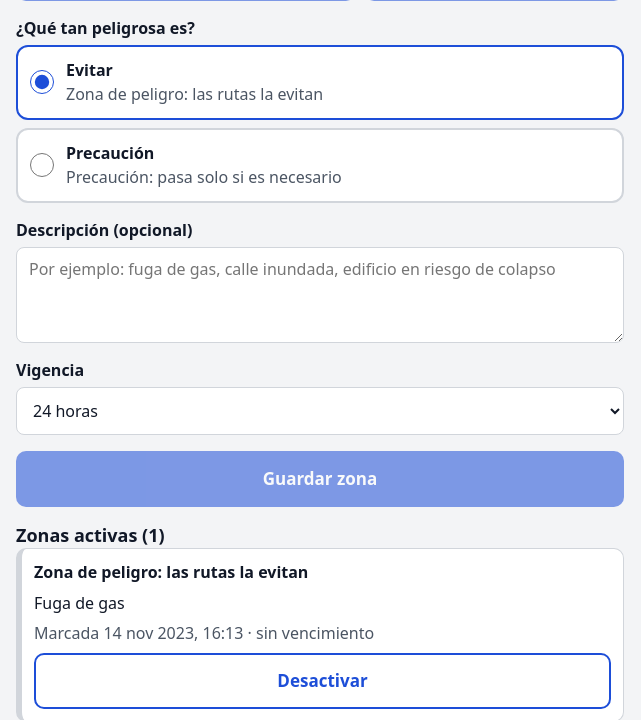
Test: ZonasPeligro › lista las zonas activas y las desactiva con confirmación
The image size is (641, 720).
(page scrolled)
Check: the text "Fuga de gas" is shown, box [34,592,125,614]
Click the button "Desactivar": click(322, 681) [34,653,611,709]
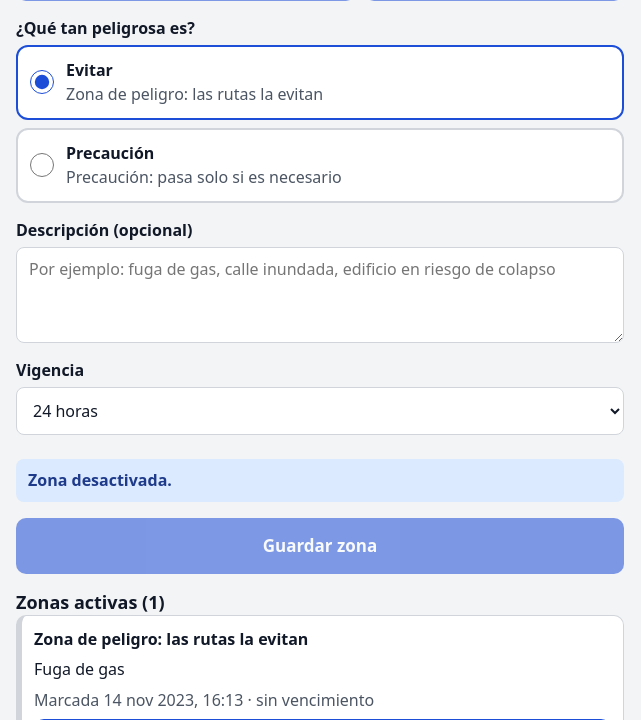
Check: the text "Zona desactivada." is shown, box [28,469,172,492]
